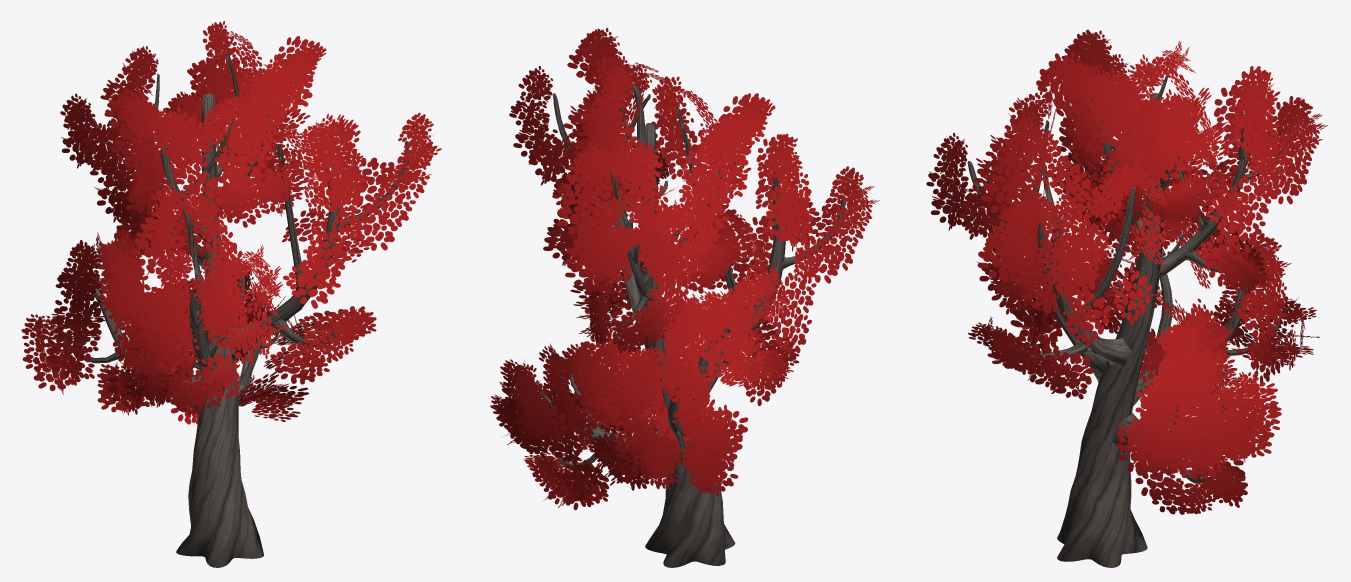
File: twisted-tree-8orakn9m0x-transformed.glb
3 views of the same model, side by side, from view 1: azimuth 30°, elevation 25°; view 2: azimuth 150°, elevation 25°; view 3: azimuth 270°, elevation 25° (orthographic). The views are drawn at different scales.
Visible parts, largest first — view 1: TwistedTree_3; view 2: TwistedTree_3; view 3: TwistedTree_3.
Part boxes in pixels (<box>): TwistedTree_3: <box>21,21,441,567</box>; TwistedTree_3: <box>490,28,879,567</box>; TwistedTree_3: <box>926,29,1327,567</box>.
Size of the model in its own units: 11.36 by 16.07 by 11.51.
Materials: 2 (2 with a texture image).
